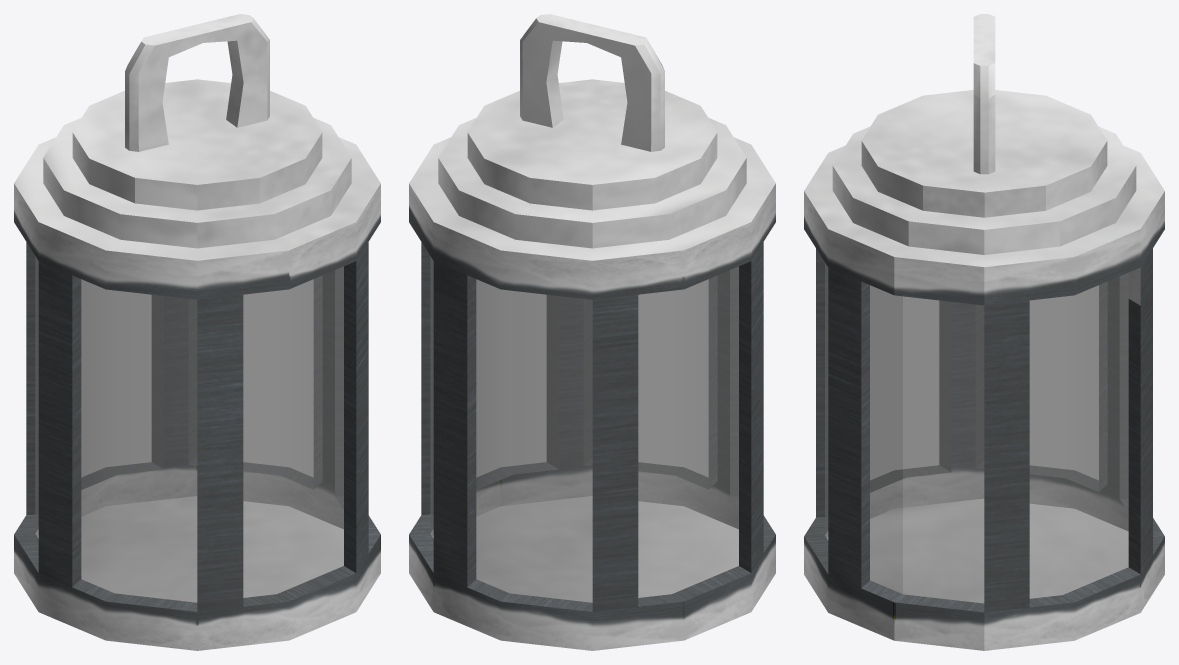
The model's file is ice_lantern.FBX.
The picture shows the model from 3 angles, left to right: view 1: azimuth 30°, elevation 25°; view 2: azimuth 150°, elevation 25°; view 3: azimuth 270°, elevation 25°; orthographic projection.
Parts seen in each view (by area): view 1: ice_lantern; view 2: ice_lantern; view 3: ice_lantern.
Part boxes in pixels (x1,y1,x2,y2): ice_lantern: [14, 14, 380, 650]; ice_lantern: [409, 14, 775, 650]; ice_lantern: [804, 14, 1164, 650].
Bounding box in the file's own units: 12.99 × 21.25 × 12.99.
Materials: 2 (1 with a texture image).
